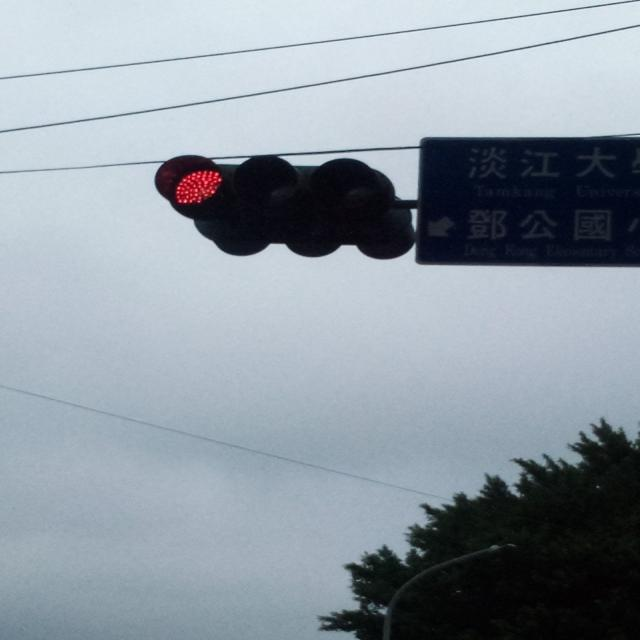red light: (153, 156, 386, 212)
